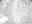person: (1, 16, 8, 23)
